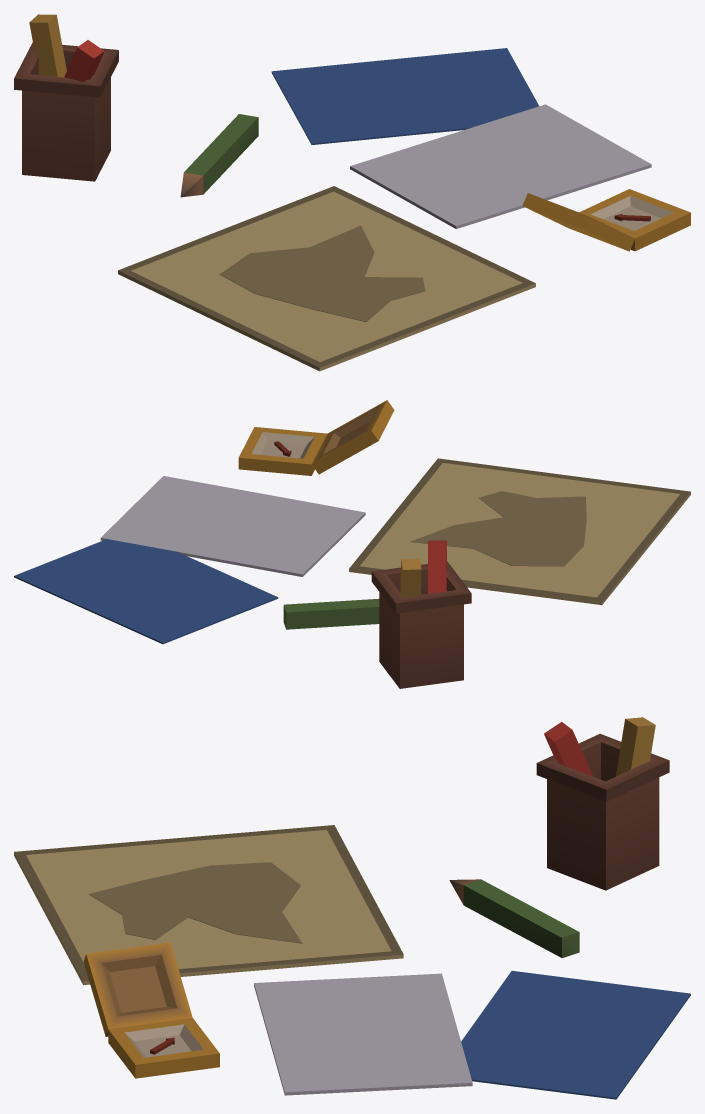
Rendered from items.glb.
The picture shows the model from 3 angles, top to bottom: view 1: azimuth 30°, elevation 25°; view 2: azimuth 150°, elevation 25°; view 3: azimuth 270°, elevation 25°; orthographic projection. The views are drawn at different scales.
Visible parts, largest first — view 1: Cube.018; view 2: Cube.018; view 3: Cube.018.
Part boxes in pixels (x1,y1,x2,y2): Cube.018: (14,14,690,371); Cube.018: (14,400,690,688); Cube.018: (14,717,690,1099).
Bounding box in the file's own units: 0.9339 × 0.2407 × 0.9847.
